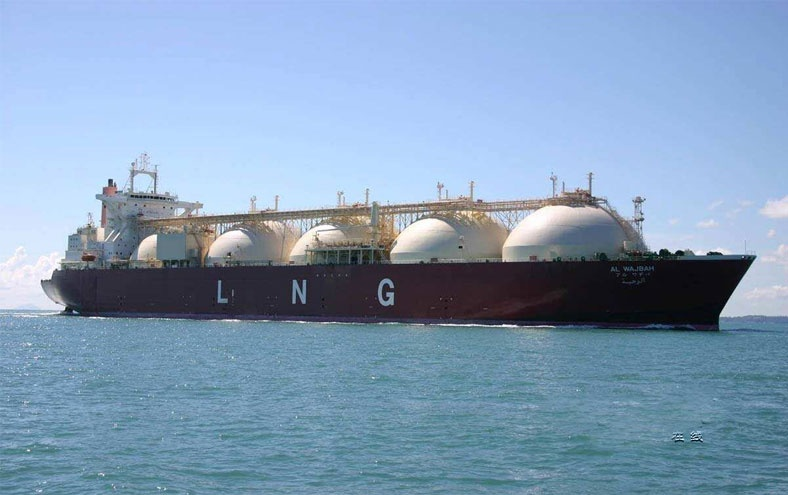Cargoship: (37, 157, 758, 325)
